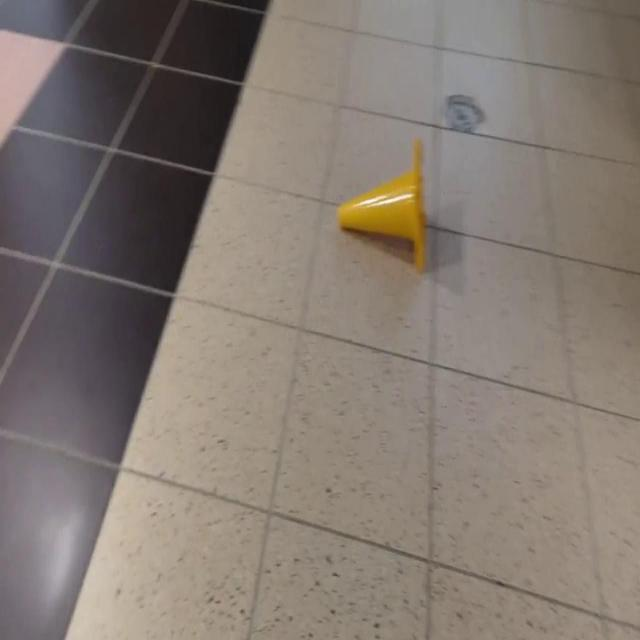frc_cone: (338, 138, 428, 274)
